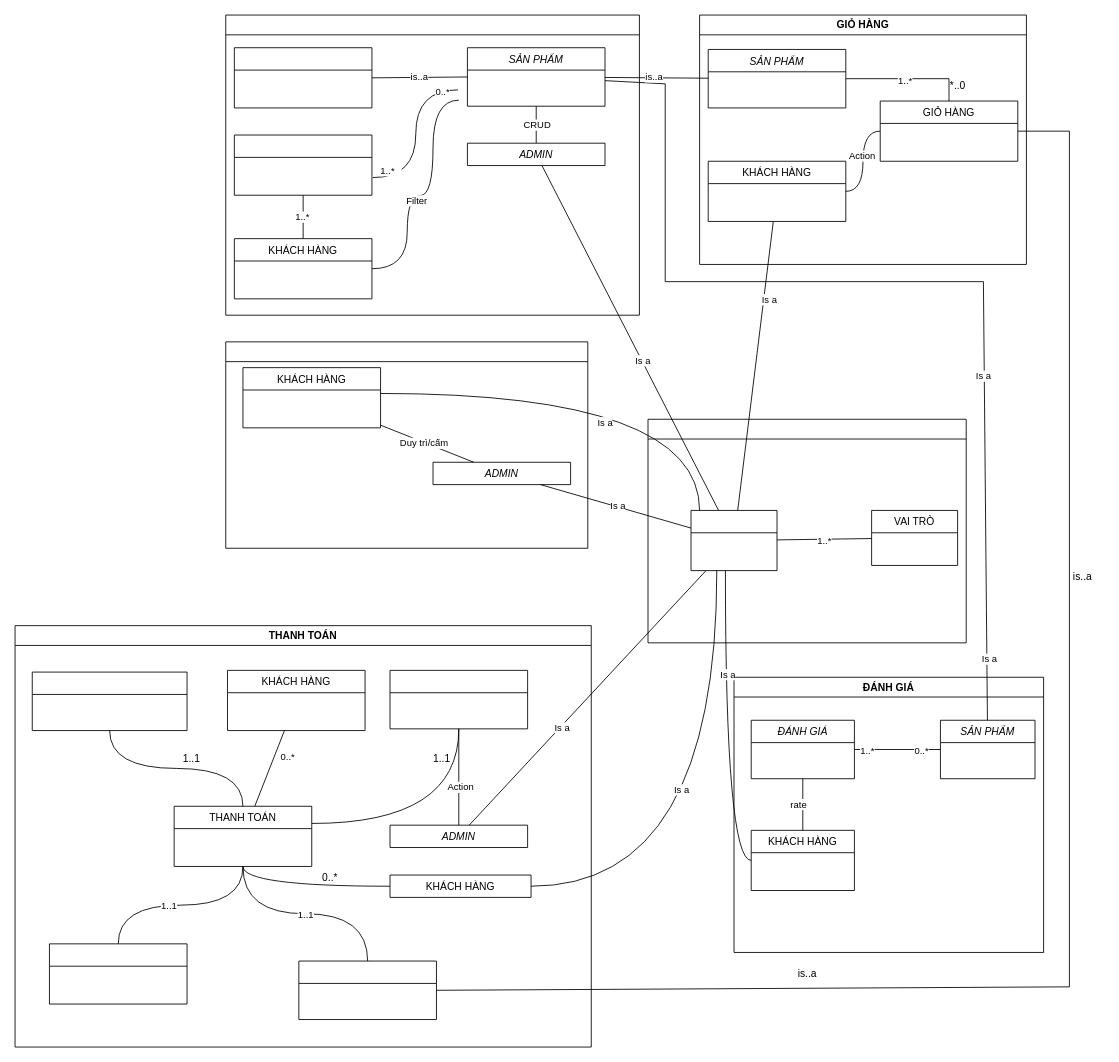
The diagram is 1119 pixels wide and 1062 high, and some of its shapes have lost their labels. The shapes that lost their labels are listed below. From the top down, each one's box as (x1, y1, x2, y2) in pixels, then its label:
(233, 47, 372, 108): LOẠI SẢN PHẨM
(233, 134, 372, 195): ĐÁNH DẤU SẢN PHẨM
(225, 14, 639, 315): DANH MỤC SẢN PHẨM
(225, 341, 588, 548): QUẢN LÝ KHÁCH HÀNG
(690, 510, 777, 571): NGƯỜI DÙNG
(647, 418, 966, 643): TRUY CẬP NGƯỜI DÙNG
(31, 671, 187, 731): PHƯƠNG THỨC THANH TOÁN
(389, 670, 528, 729): TRẠNG THÁI ĐƠN HÀNG
(49, 943, 187, 1004): LOẠI GIAO HÀNG
(298, 960, 436, 1020): THÔNG TIN ĐƠN HÀNG
